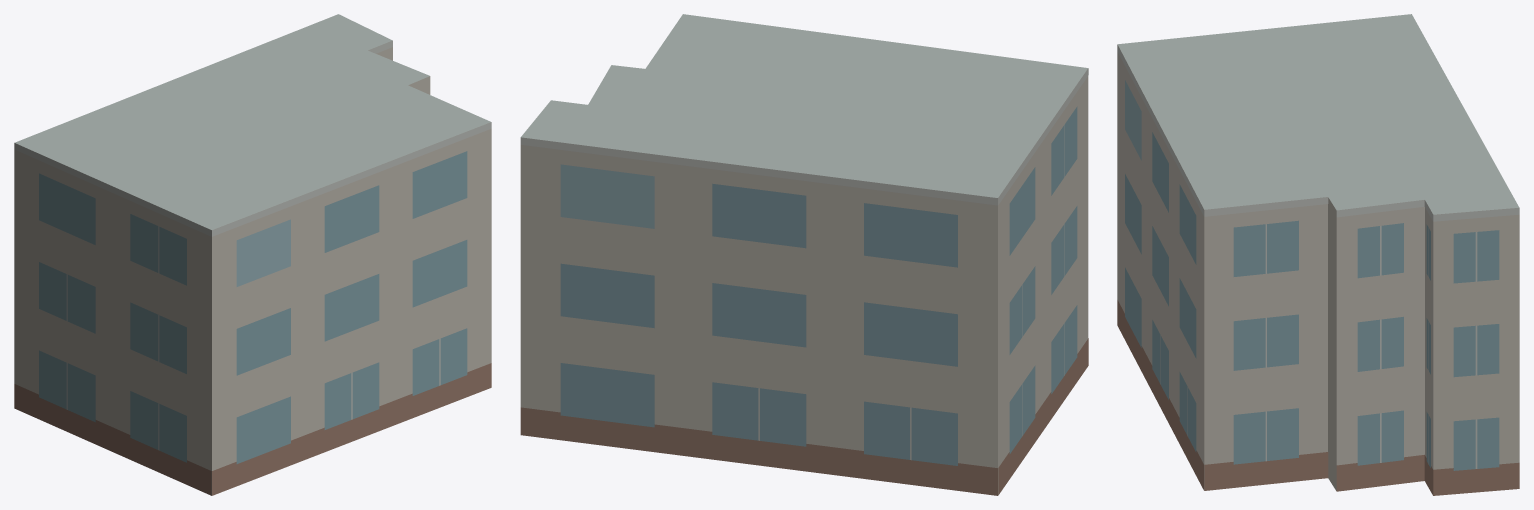
The model's file is survey-upis-32965932.glb.
The picture shows the model from 3 angles, left to right: view 1: azimuth 30°, elevation 25°; view 2: azimuth 150°, elevation 25°; view 3: azimuth 270°, elevation 25°; orthographic projection. The views are drawn at different scales.
Parts seen in each view (by area): view 1: survey-upis-32965932.tmp; view 2: survey-upis-32965932.tmp; view 3: survey-upis-32965932.tmp.
Boxes of the visible parts, x1,y1,x2,y2 form: survey-upis-32965932.tmp: [14, 14, 491, 495]; survey-upis-32965932.tmp: [520, 14, 1088, 495]; survey-upis-32965932.tmp: [1117, 14, 1519, 495].
Bounding box in the file's own units: 15.02 × 9.8 × 12.71.
